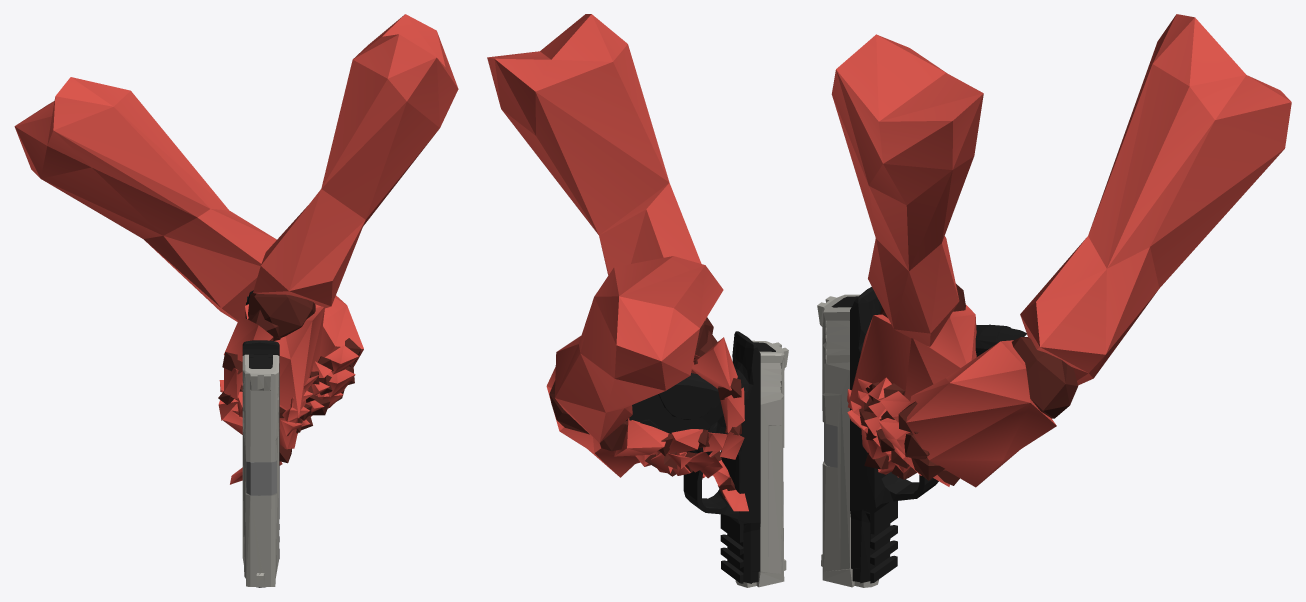
Rendered from M&P9shootExtendLowPoly_000025.obj.
The picture shows the model from 3 angles, left to right: view 1: azimuth 30°, elevation 25°; view 2: azimuth 150°, elevation 25°; view 3: azimuth 270°, elevation 25°; orthographic projection. The views are drawn at different scales.
Visible parts, largest first — view 1: Beta_Surface, slide_平面.002, Beta_Joints, barrel_円.001, body_平面; view 2: Beta_Surface, body_平面, slide_平面.002, Beta_Joints; view 3: Beta_Surface, body_平面, slide_平面.002, Beta_Joints.
Boxes of the visible parts, <box> form: Beta_Surface: <box>14,14,458,484</box>; slide_平面.002: <box>242,354,279,586</box>; Beta_Joints: <box>218,292,360,463</box>; barrel_円.001: <box>246,460,276,587</box>; body_平面: <box>242,290,279,558</box>; Beta_Surface: <box>487,14,748,511</box>; body_平面: <box>629,331,760,583</box>; slide_平面.002: <box>735,340,788,587</box>; Beta_Joints: <box>549,317,741,497</box>; Beta_Surface: <box>831,14,1291,487</box>; body_平面: <box>850,287,1026,583</box>; slide_平面.002: <box>817,294,878,587</box>; Beta_Joints: <box>859,284,1077,485</box>.
Size of the model in its own units: 46.82 by 74.47 by 50.2.
